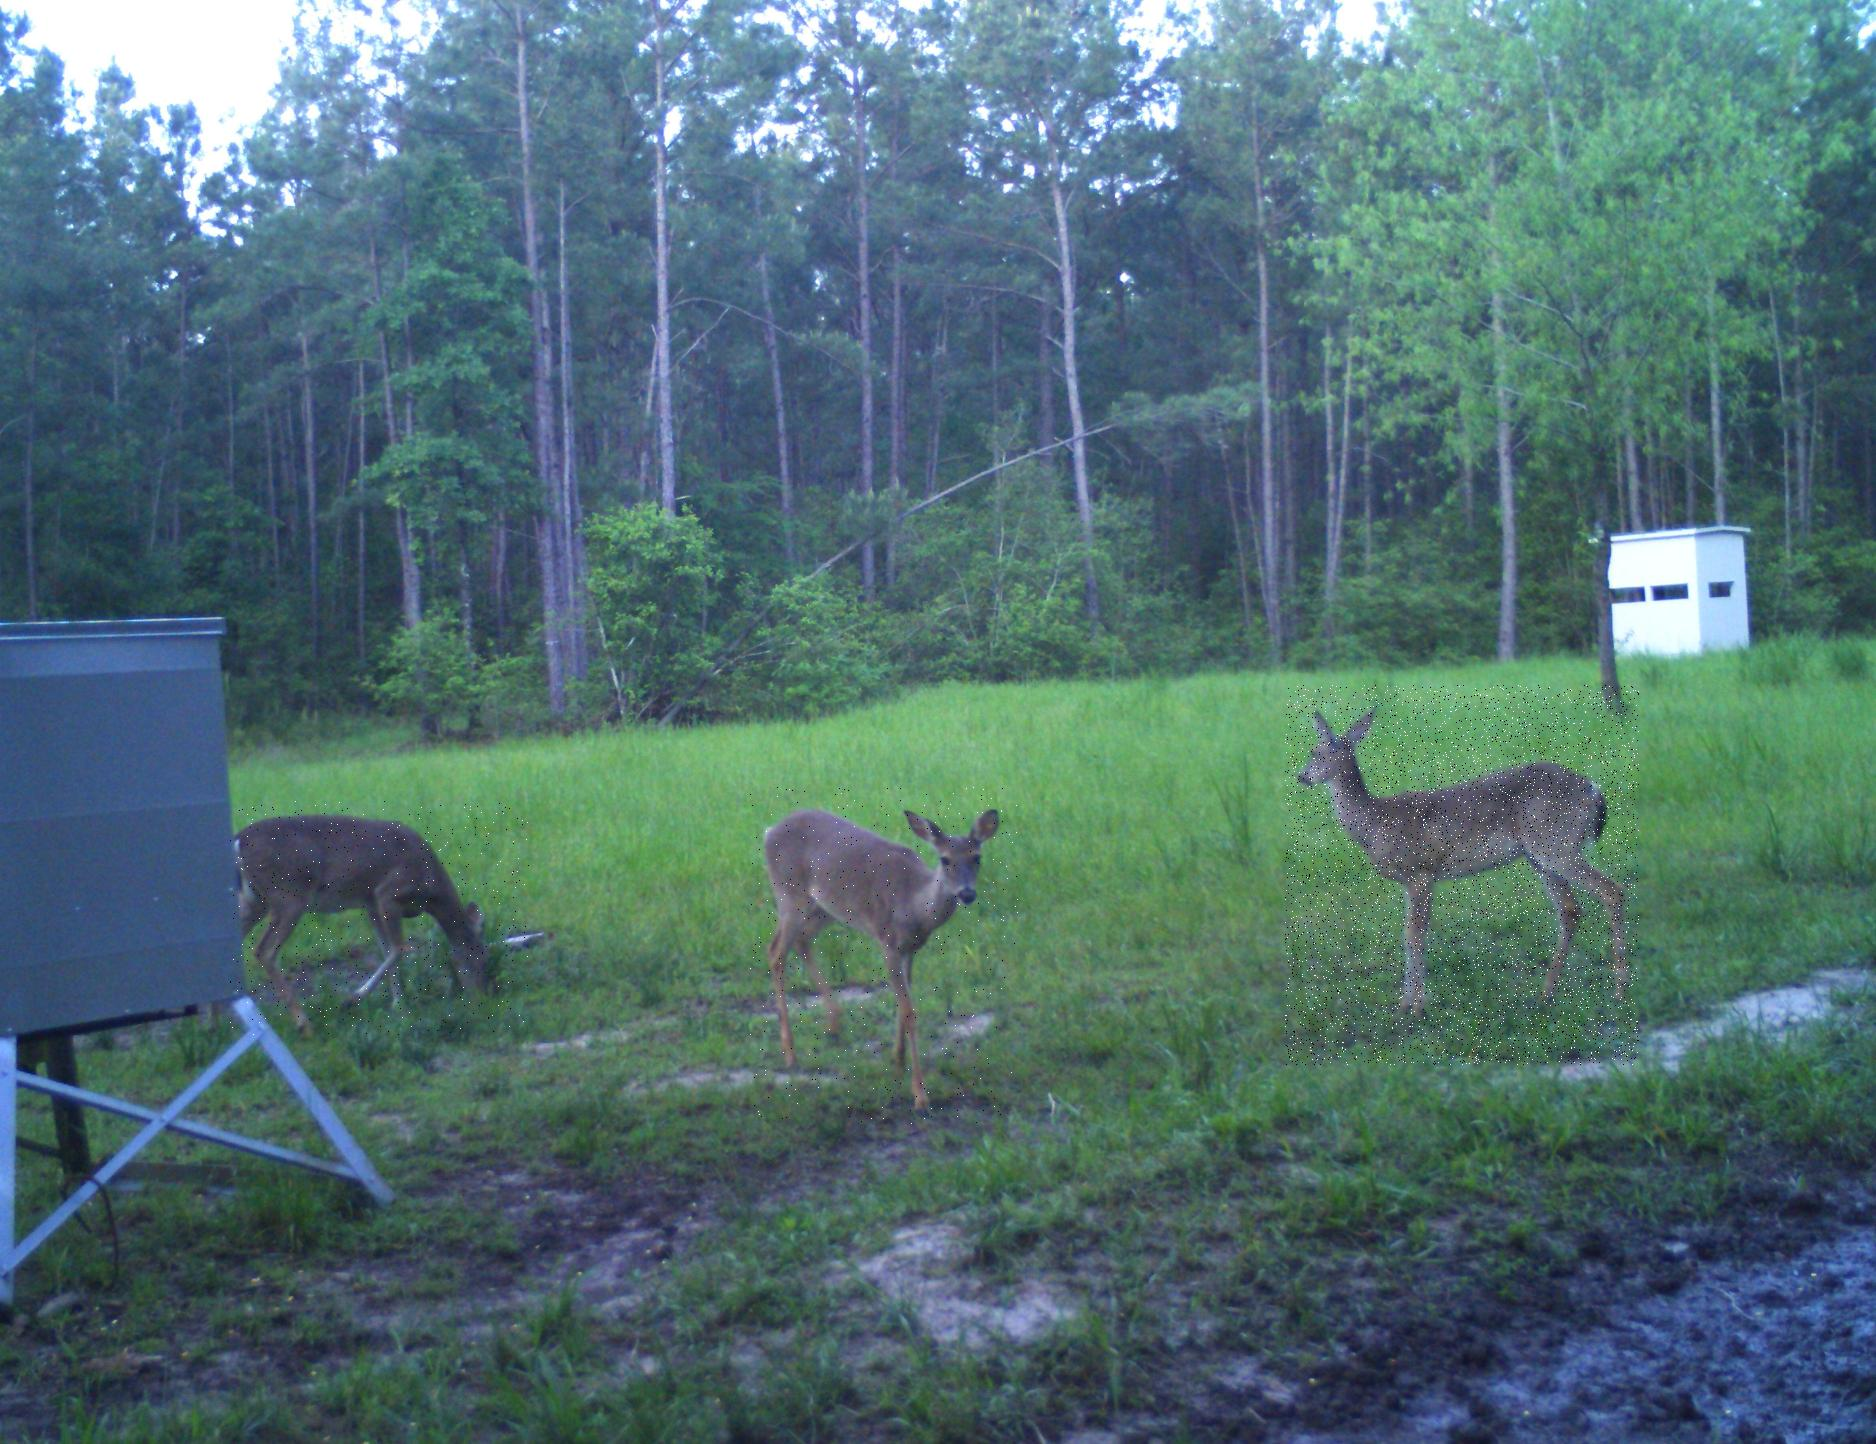Deer: (1285, 686, 1639, 1065), (749, 786, 1018, 1124), (229, 801, 529, 1034)
